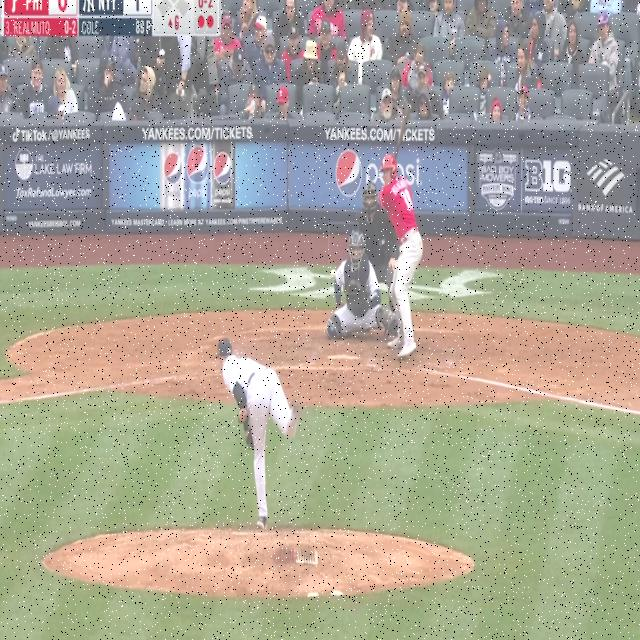baseball: (330, 269, 336, 279)
